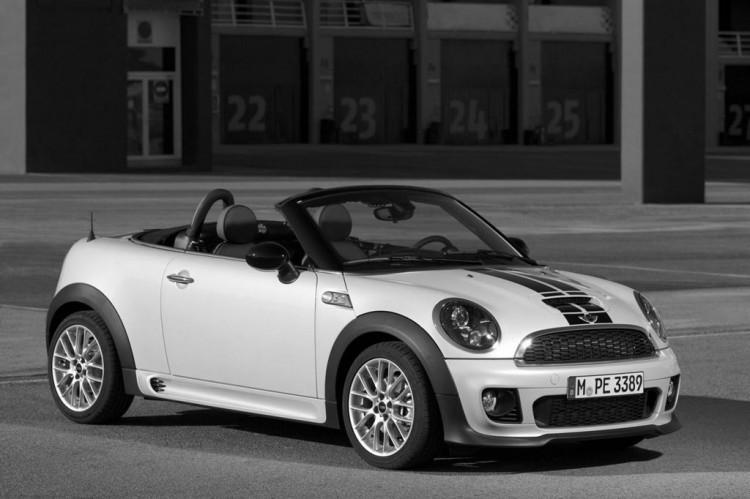car: (44, 179, 685, 475)
